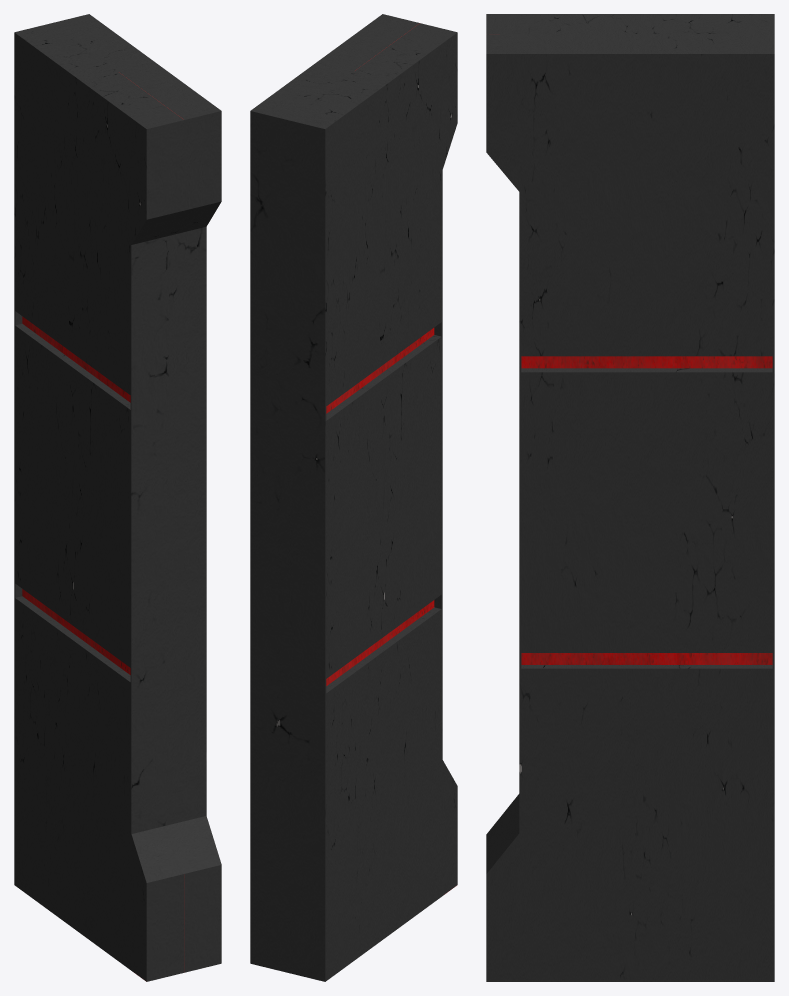
The model's file is DP_DoorRight.fbx.
The picture shows the model from 3 angles, left to right: view 1: azimuth 30°, elevation 25°; view 2: azimuth 150°, elevation 25°; view 3: azimuth 270°, elevation 25°; orthographic projection. The views are drawn at different scales.
Visible parts, largest first — view 1: DP_DoorRight; view 2: DP_DoorRight; view 3: DP_DoorRight.
Part boxes in pixels (x1,y1,x2,y2): DP_DoorRight: (14, 14, 221, 981); DP_DoorRight: (250, 14, 457, 981); DP_DoorRight: (486, 14, 774, 981).
Size of the model in its own units: 8.27 by 89.79 by 25.28.
1 material, 1 textured.
